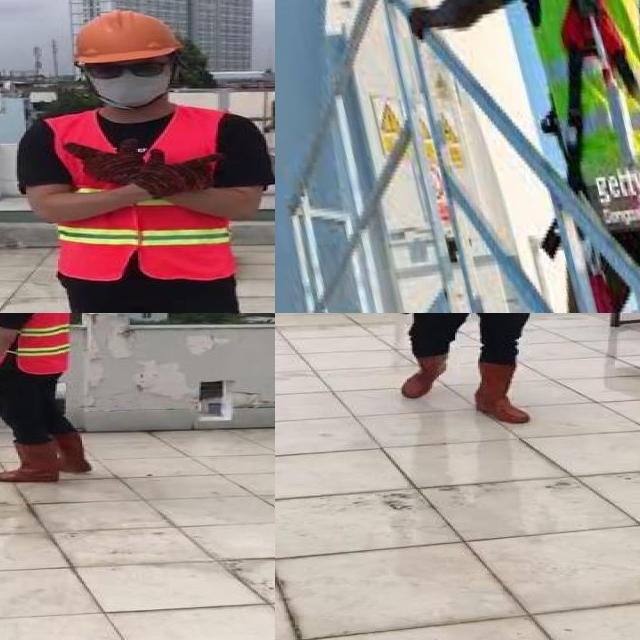Harness: (561, 0, 640, 192)
boots: (473, 361, 533, 424), (400, 351, 453, 398), (0, 441, 60, 481), (57, 431, 93, 477)
face_mask: (80, 57, 176, 108)
glasses: (77, 56, 176, 81)
hand_glove: (58, 141, 143, 187), (145, 148, 222, 196)
head_helmet: (68, 8, 190, 66)
person: (21, 9, 275, 313), (375, 313, 578, 426), (0, 313, 103, 484)
vest: (44, 111, 239, 283), (11, 313, 68, 372), (0, 313, 11, 372)
